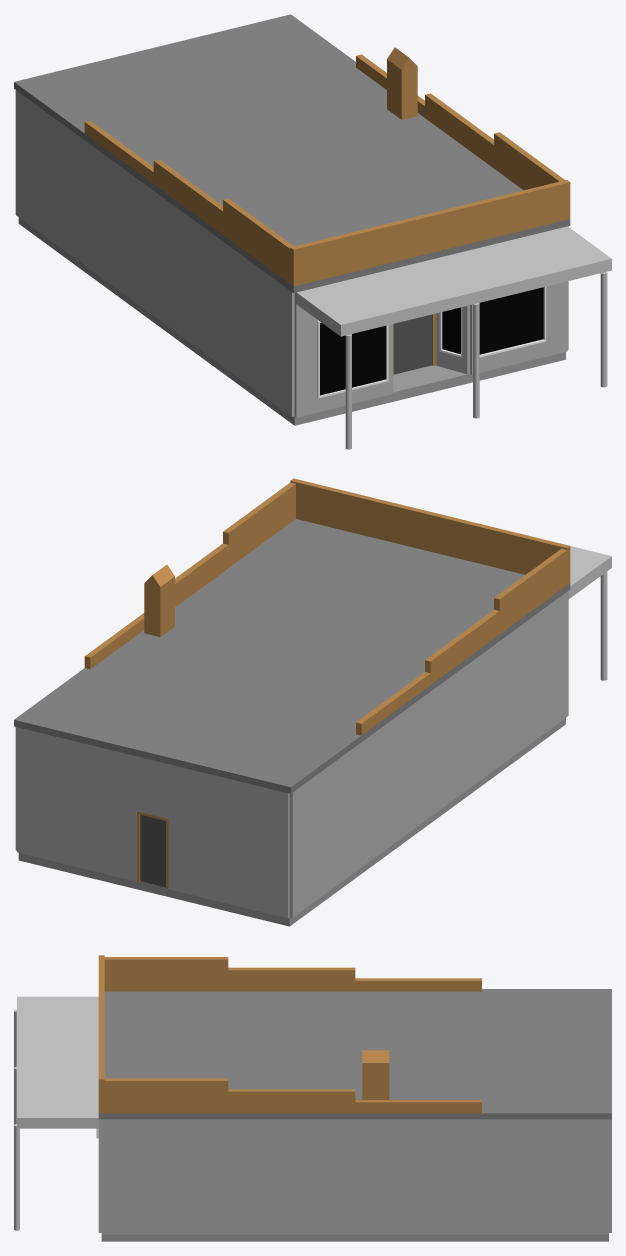
The model's file is building_phase_1b_iter_014.glb.
3 renders of one model, top to bottom at view 1: azimuth 30°, elevation 25°; view 2: azimuth 150°, elevation 25°; view 3: azimuth 270°, elevation 25°, orthographic. The views are drawn at different scales.
Visible parts, largest first — view 1: Roof, Wall_Left, Canopy_Roof, Parapet_Front, Wall_Front, Foundation, Front_Left_Window_Glass, Front_Right_Window_Glass, Parapet_Left_Level_1, Parapet_Right_Level_1, Parapet_Left_Level_2, Parapet_Right_Level_2 (+10 smaller); view 2: Roof, Wall_Left, Wall_Rear, Parapet_Front, Foundation, Parapet_Left_Level_1, Parapet_Right_Level_1, Parapet_Left_Level_2, Rear_Service_Door_Panel, Parapet_Right_Level_2, Chimney, Canopy_Roof (+3 smaller); view 3: Wall_Right, Roof, Canopy_Roof, Parapet_Right_Level_1, Parapet_Left_Level_1, Foundation, Parapet_Left_Level_2, Parapet_Right_Level_2, Parapet_Left_Level_3, Parapet_Right_Level_3, Parapet_Front, Chimney (+2 smaller).
Part boxes in pixels (left/top/right/bottom): Roof: left=14, top=14, right=570, bottom=293; Wall_Left: left=15, top=90, right=294, bottom=416; Canopy_Roof: left=296, top=226, right=611, bottom=336; Parapet_Front: left=290, top=180, right=570, bottom=286; Wall_Front: left=294, top=281, right=567, bottom=417; Foundation: left=18, top=217, right=565, bottom=425; Front_Left_Window_Glass: left=320, top=322, right=385, bottom=395; Front_Right_Window_Glass: left=479, top=287, right=543, bottom=354; Parapet_Left_Level_1: left=223, top=198, right=293, bottom=283; Parapet_Right_Level_1: left=494, top=132, right=564, bottom=190; Parapet_Left_Level_2: left=153, top=159, right=222, bottom=234; Parapet_Right_Level_2: left=425, top=93, right=493, bottom=168; Roof: left=14, top=519, right=570, bottom=793; Wall_Left: left=289, top=591, right=568, bottom=917; Wall_Rear: left=17, top=727, right=289, bottom=918; Parapet_Front: left=290, top=478, right=570, bottom=584; Foundation: left=18, top=718, right=565, bottom=926; Parapet_Left_Level_1: left=494, top=548, right=567, bottom=633; Parapet_Right_Level_1: left=223, top=482, right=295, bottom=567; Parapet_Left_Level_2: left=425, top=609, right=499, bottom=684; Rear_Service_Door_Panel: left=140, top=815, right=165, bottom=887; Parapet_Right_Level_2: left=175, top=543, right=228, bottom=606; Chimney: left=144, top=576, right=174, bottom=636; Canopy_Roof: left=568, top=546, right=611, bottom=598; Wall_Right: left=101, top=1119, right=608, bottom=1234; Roof: left=98, top=989, right=611, bottom=1119; Canopy_Roof: left=17, top=996, right=101, bottom=1128; Parapet_Right_Level_1: left=101, top=1078, right=228, bottom=1113; Parapet_Left_Level_1: left=104, top=957, right=228, bottom=991; Foundation: left=101, top=1234, right=608, bottom=1241; Parapet_Left_Level_2: left=228, top=967, right=355, bottom=991; Parapet_Right_Level_2: left=228, top=1089, right=355, bottom=1113; Parapet_Left_Level_3: left=355, top=978, right=481, bottom=991; Parapet_Right_Level_3: left=355, top=1100, right=481, bottom=1113; Parapet_Front: left=98, top=955, right=104, bottom=1113; Chimney: left=362, top=1063, right=389, bottom=1099.
Size of the model in its own units: 8.68 by 6.03 by 17.68.
